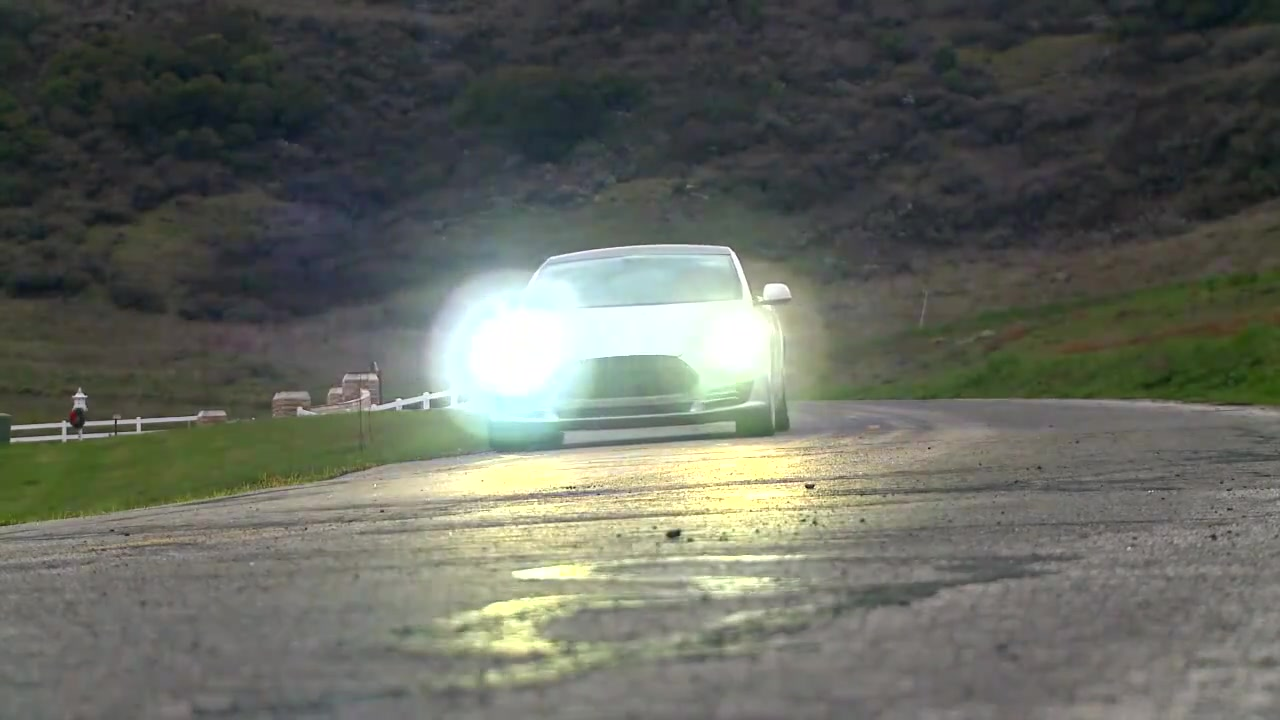car: (477, 245, 796, 454)
